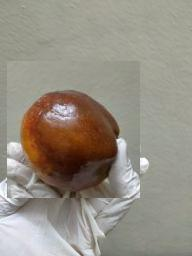Apple Rotten: (7, 61, 140, 198)
